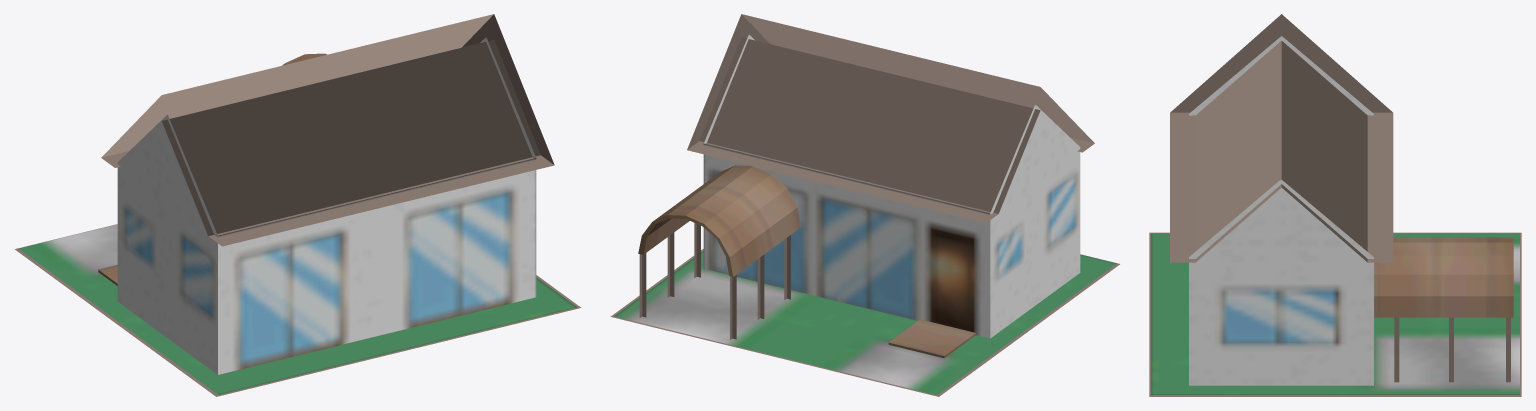
The model's file is asami.ico.obj.
3 views of the same model, side by side, from view 1: azimuth 30°, elevation 25°; view 2: azimuth 150°, elevation 25°; view 3: azimuth 270°, elevation 25° (orthographic). The views are drawn at different scales.
Bounding box in the file's own units: 3.88 × 2.49 × 3.71.
Materials: 1 (1 with a texture image).
